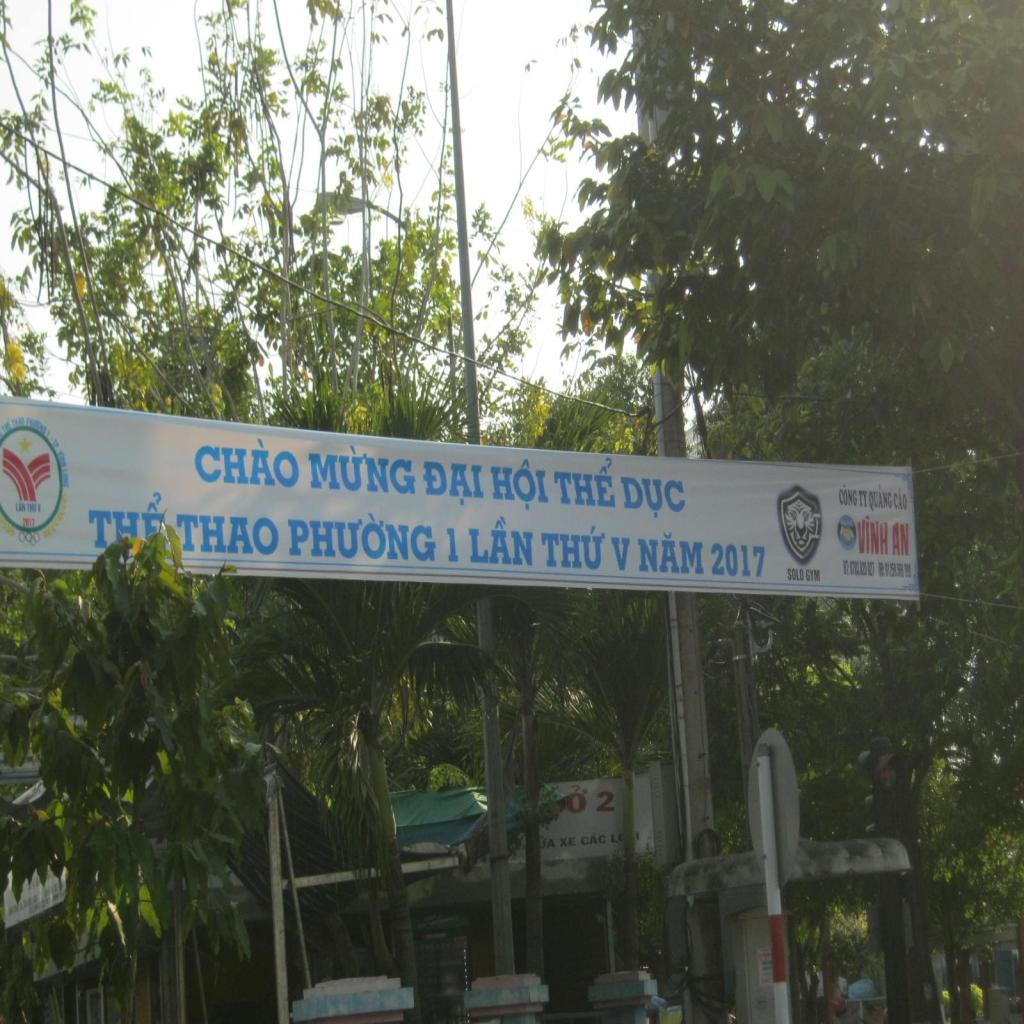text: (286, 508, 439, 566), (304, 438, 418, 499), (191, 435, 301, 490), (174, 509, 282, 558), (464, 512, 538, 569), (487, 454, 554, 516), (550, 456, 620, 513), (540, 520, 608, 574), (419, 458, 488, 509), (620, 471, 690, 521), (636, 532, 706, 578), (708, 538, 768, 582), (854, 515, 890, 558), (85, 507, 115, 554), (442, 522, 463, 567), (609, 533, 632, 573), (564, 784, 590, 818), (891, 519, 912, 560), (868, 483, 894, 514), (593, 788, 618, 816), (835, 481, 859, 508), (580, 831, 608, 848), (894, 488, 910, 513), (784, 566, 804, 584), (559, 834, 578, 850), (539, 834, 557, 850), (805, 568, 822, 584), (859, 488, 869, 509), (21, 516, 37, 529), (14, 499, 26, 513), (842, 558, 851, 576), (877, 560, 886, 578), (609, 831, 619, 845), (26, 502, 38, 513), (36, 502, 42, 513)
